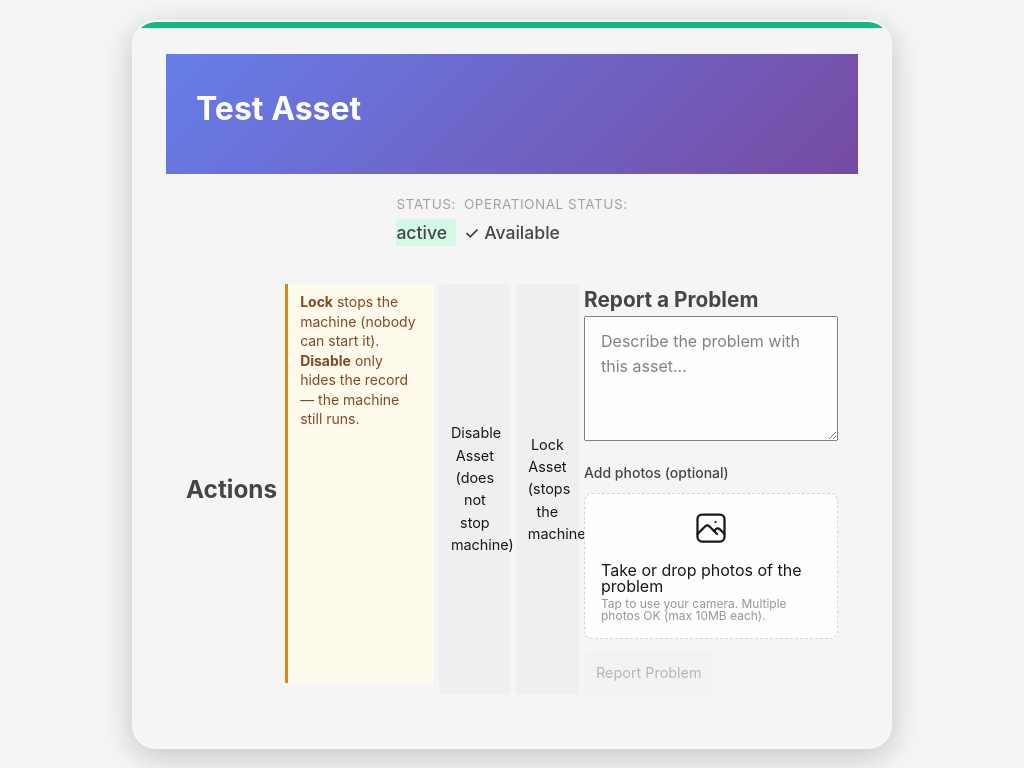
Test: AssetScanPage — modal flows › lock asset: cancelling the reason prompt leaves the machine alone
What coordinates should you click on to do the following:
click the button "Lock Asset (stops the machine)"
I would click on:
 (547, 489)
Its box is [516,284,579,695].
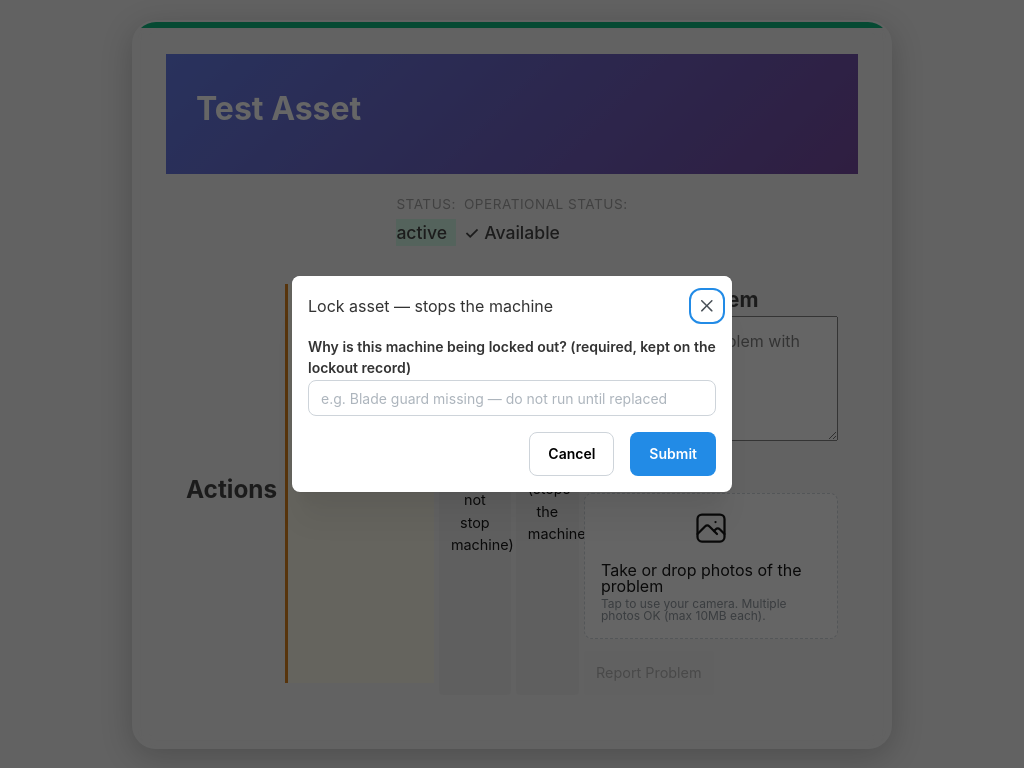
Now the field labelled "Why is this machine being locked out" is shown, box [308,380,716,416]
What coordinates should you click on to do the following:
click the button "Cancel"
I would click on:
 (572, 454)
Its box is [529,432,614,476].
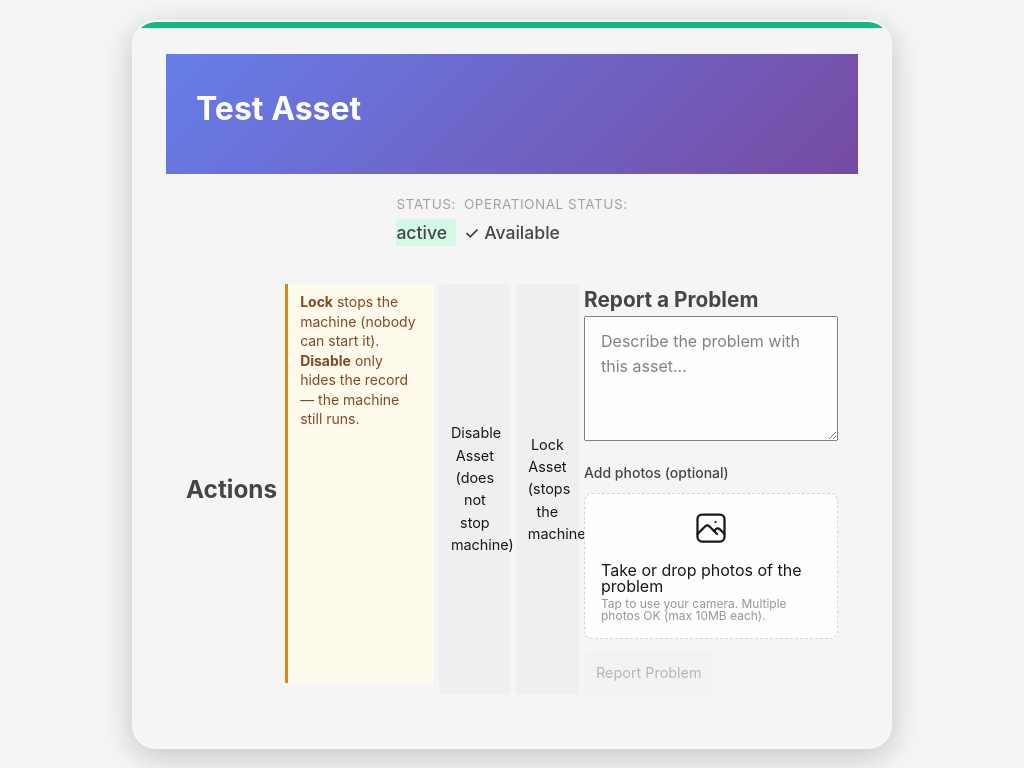
Now the button "Submit" is gone
